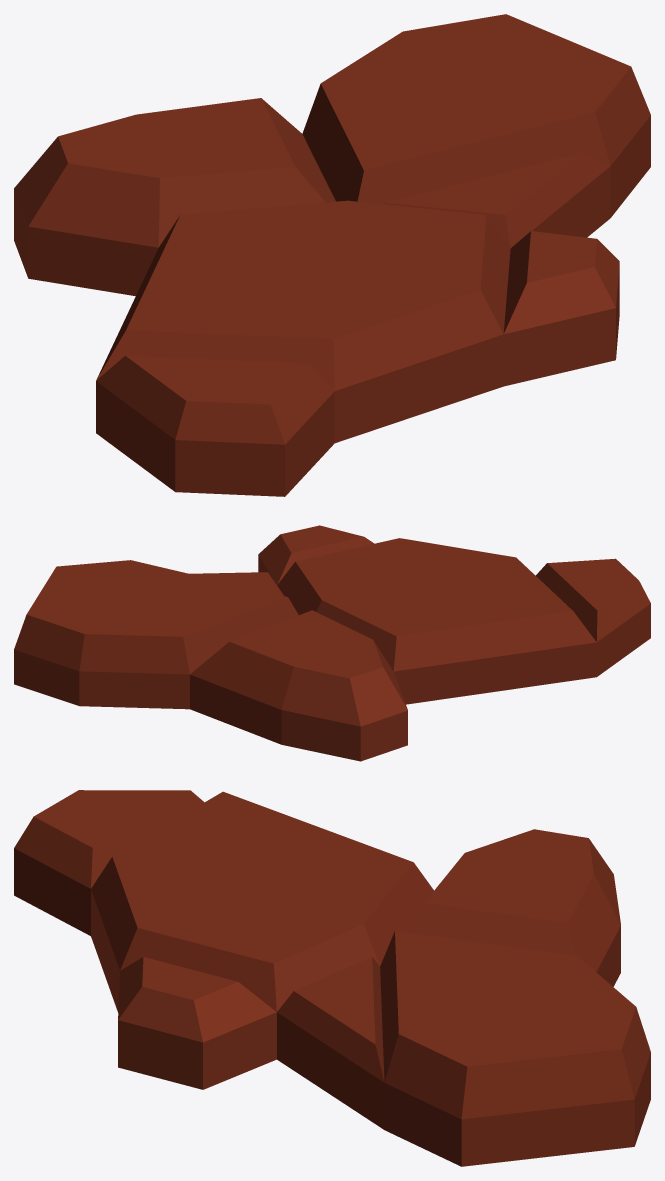
Rendered from lp_Rock_Type4_01_mesh_001_Circle_012.obj.
3 renders of one model, top to bottom at view 1: azimuth 30°, elevation 25°; view 2: azimuth 150°, elevation 25°; view 3: azimuth 270°, elevation 25°, orthographic. The views are drawn at different scales.
Parts seen in each view (by area): view 1: lp_Rock_Type4_01_mesh_001_Circle_012; view 2: lp_Rock_Type4_01_mesh_001_Circle_012; view 3: lp_Rock_Type4_01_mesh_001_Circle_012.
Boxes of the visible parts, x1,y1,x2,y2 form: lp_Rock_Type4_01_mesh_001_Circle_012: (14, 14, 650, 496); lp_Rock_Type4_01_mesh_001_Circle_012: (14, 525, 650, 761); lp_Rock_Type4_01_mesh_001_Circle_012: (14, 790, 650, 1166).
Bounding box in the file's own units: 5.22 × 0.7727 × 4.59.
